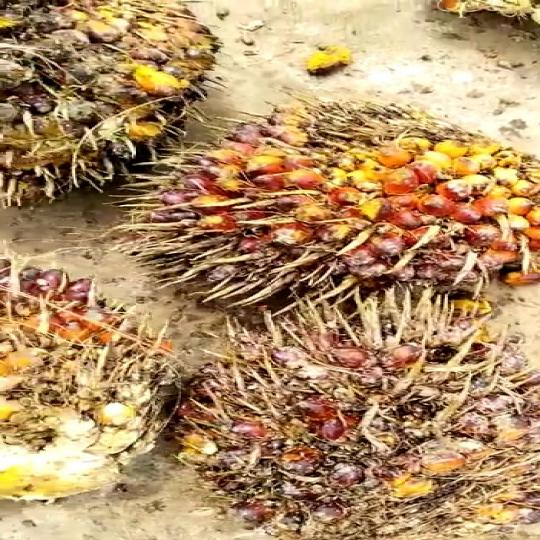masak: (120, 98, 540, 326), (159, 304, 540, 535)
